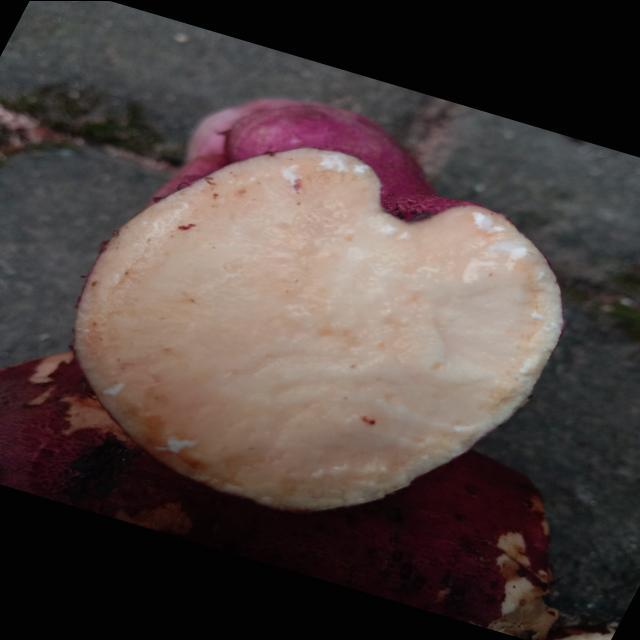Healthy Sweet Potato: (75, 148, 563, 509)
